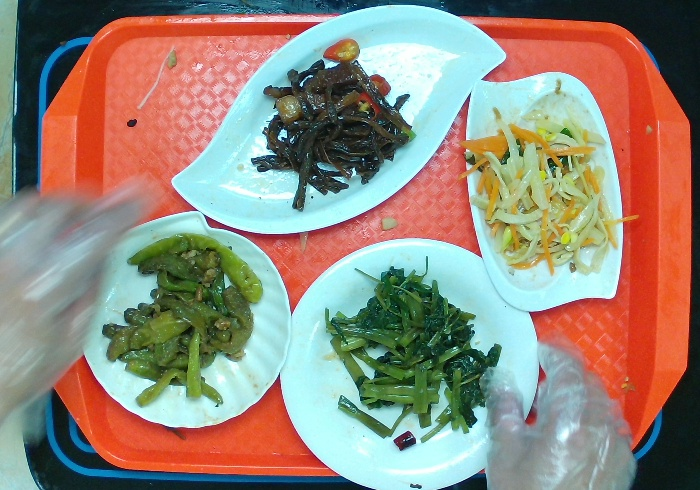RJxy-Bei_Ke_Wan: (72, 206, 293, 435)
RJxy-Jian_Jiao_Fang_Die: (452, 62, 631, 317)
RJxy-Jian_Jiao_Pan: (167, 1, 510, 244)
RJxy-Yuan_Pan: (277, 234, 545, 490)
